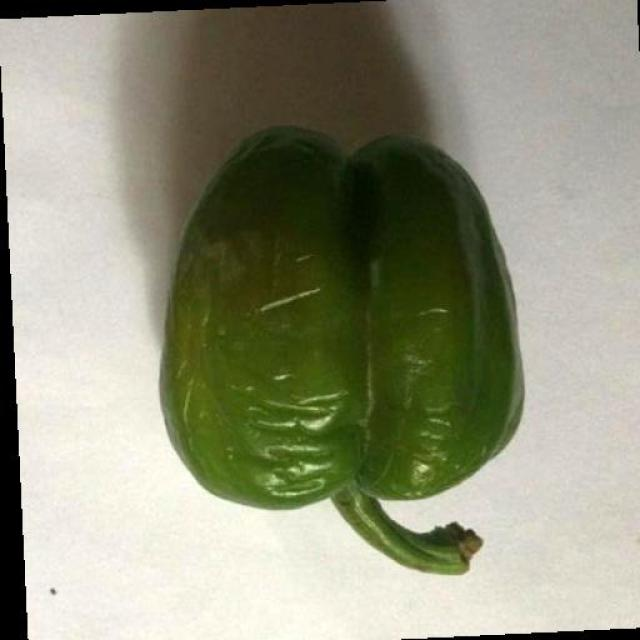Stale_Capsicum: (122, 122, 566, 614)
